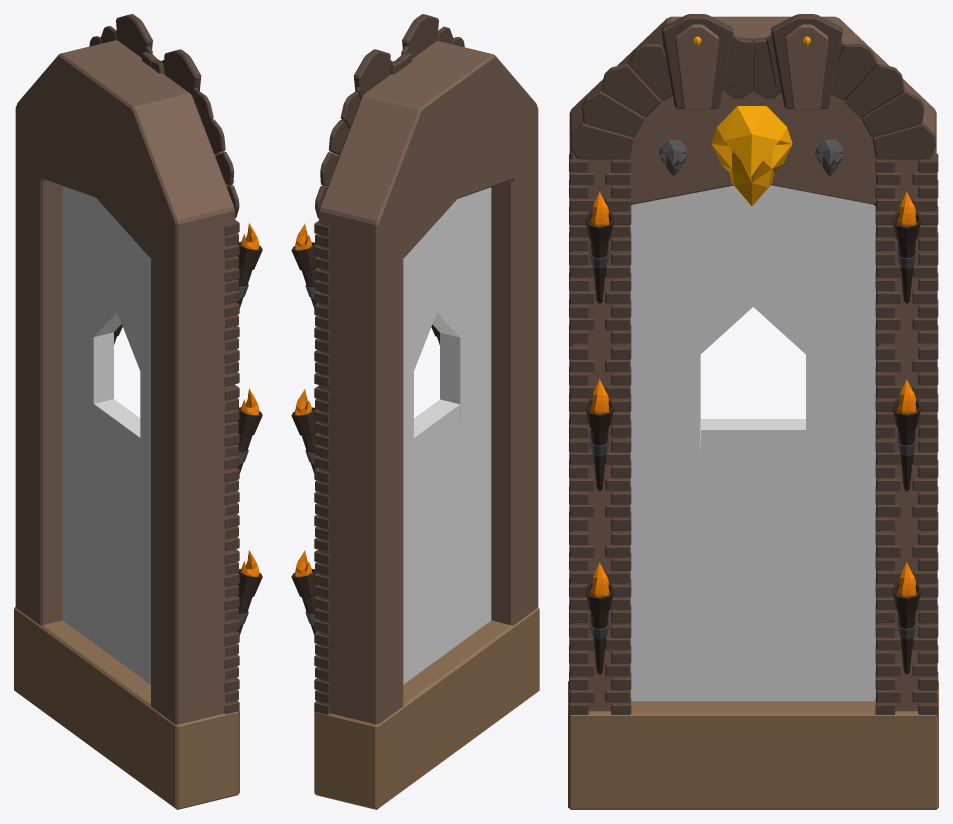
File: wall_001.fbx
3 renders of one model, left to right at view 1: azimuth 30°, elevation 25°; view 2: azimuth 150°, elevation 25°; view 3: azimuth 270°, elevation 25°, orthographic. The views are drawn at different scales.
Visible parts, largest first — view 1: Collection|Block_wo_Wand_verschwindet_L_wall_border.blend|Du, Plane.004, Cube; view 2: Collection|Block_wo_Wand_verschwindet_L_wall_border.blend|Du, Plane.004, Cube; view 3: Collection|Block_wo_Wand_verschwindet_L_wall_border.blend|Du, Plane.004, Cube.
Boxes of the visible parts, <box> form: Collection|Block_wo_Wand_verschwindet_L_wall_border.blend|Du: <box>14,14,262,809</box>; Plane.004: <box>62,186,150,684</box>; Cube: <box>93,399,140,454</box>; Collection|Block_wo_Wand_verschwindet_L_wall_border.blend|Du: <box>291,14,539,809</box>; Plane.004: <box>403,187,491,684</box>; Cube: <box>414,399,459,455</box>; Collection|Block_wo_Wand_verschwindet_L_wall_border.blend|Du: <box>568,14,938,809</box>; Plane.004: <box>630,185,875,701</box>; Cube: <box>701,419,805,453</box>.
Size of the model in its own units: 48.98 by 333 by 141.
